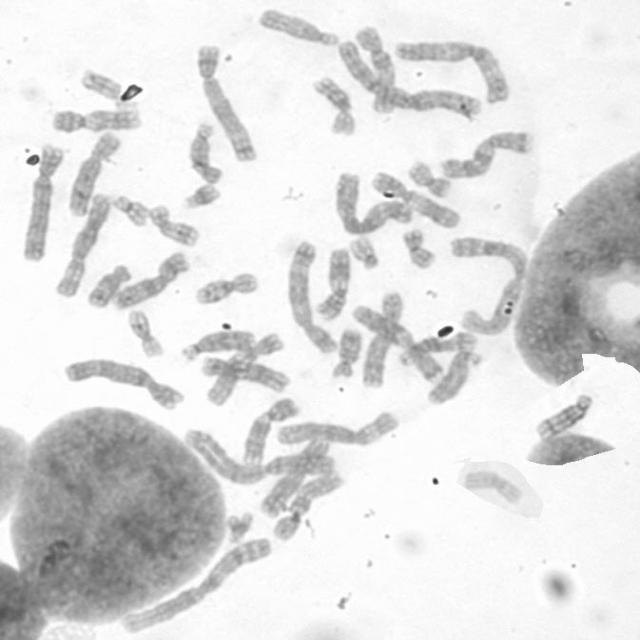A1: (118, 534, 273, 634), (445, 234, 530, 336)
A2: (338, 39, 485, 120), (180, 426, 338, 486)
A3: (392, 38, 512, 106), (334, 168, 414, 236)
B4: (60, 357, 188, 413), (20, 141, 63, 263)
B5: (193, 43, 266, 164), (286, 237, 339, 355)
C10: (269, 470, 348, 544), (353, 25, 399, 116)
C11: (368, 170, 464, 230), (315, 246, 352, 319)
C12: (202, 329, 285, 408), (198, 354, 292, 393)
C6: (53, 191, 112, 298), (275, 409, 399, 449)
C7: (351, 302, 447, 384), (438, 130, 534, 182)
C8: (66, 131, 122, 219), (359, 290, 405, 390)
C9: (240, 396, 300, 466), (49, 105, 144, 133)
D13: (422, 350, 481, 407), (180, 326, 260, 362)
D14: (398, 331, 479, 368), (534, 392, 596, 440)
D15: (254, 7, 341, 49), (188, 122, 225, 186)
E16: (312, 74, 359, 138), (191, 272, 259, 306)
E17: (146, 204, 202, 248), (76, 69, 130, 108)
E18: (86, 263, 132, 310), (330, 329, 366, 380)
F19: (459, 469, 524, 507), (124, 309, 166, 358)
F20: (406, 158, 453, 199), (401, 228, 438, 270)
G21: (180, 180, 222, 212), (223, 509, 255, 547)
G22: (108, 194, 152, 228), (345, 236, 382, 269)
X: (256, 436, 330, 518), (110, 250, 191, 313)
